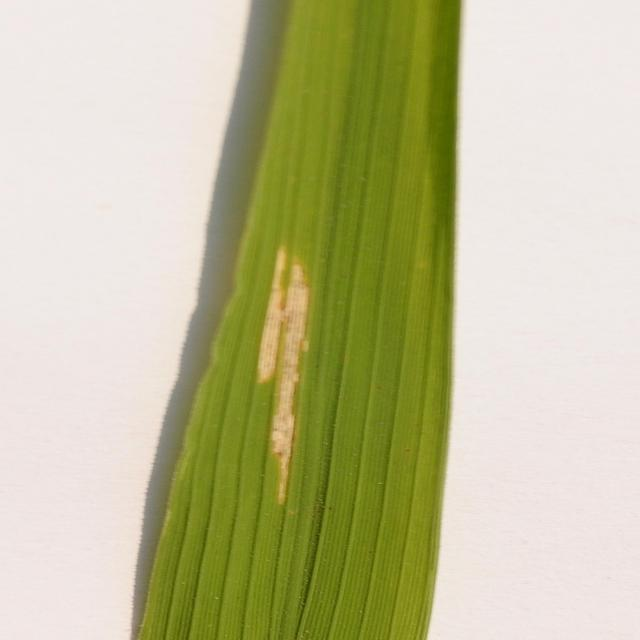leaf blight: (234, 239, 331, 515)
